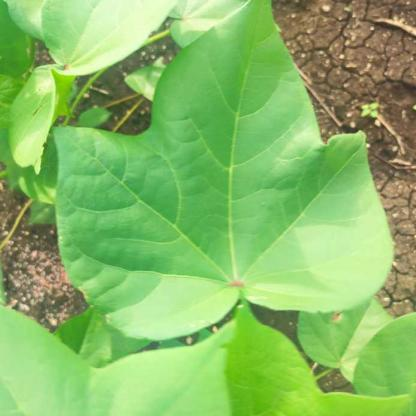cotton: (51, 4, 397, 338)
